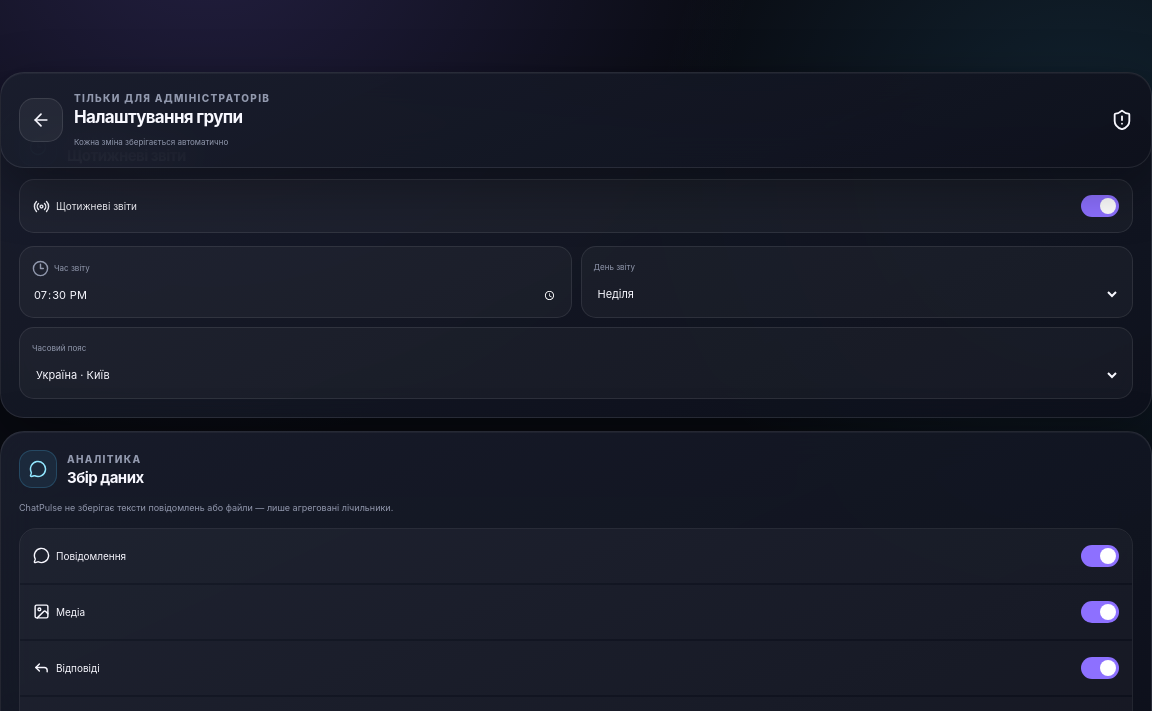
Test case: GroupSettingsPanel › saves a changed field immediately without a global save button
Step 1. Click the checkbox labelled "Повідомлення" → (91, 556), box x1=20 y1=529 x2=1132 y2=583
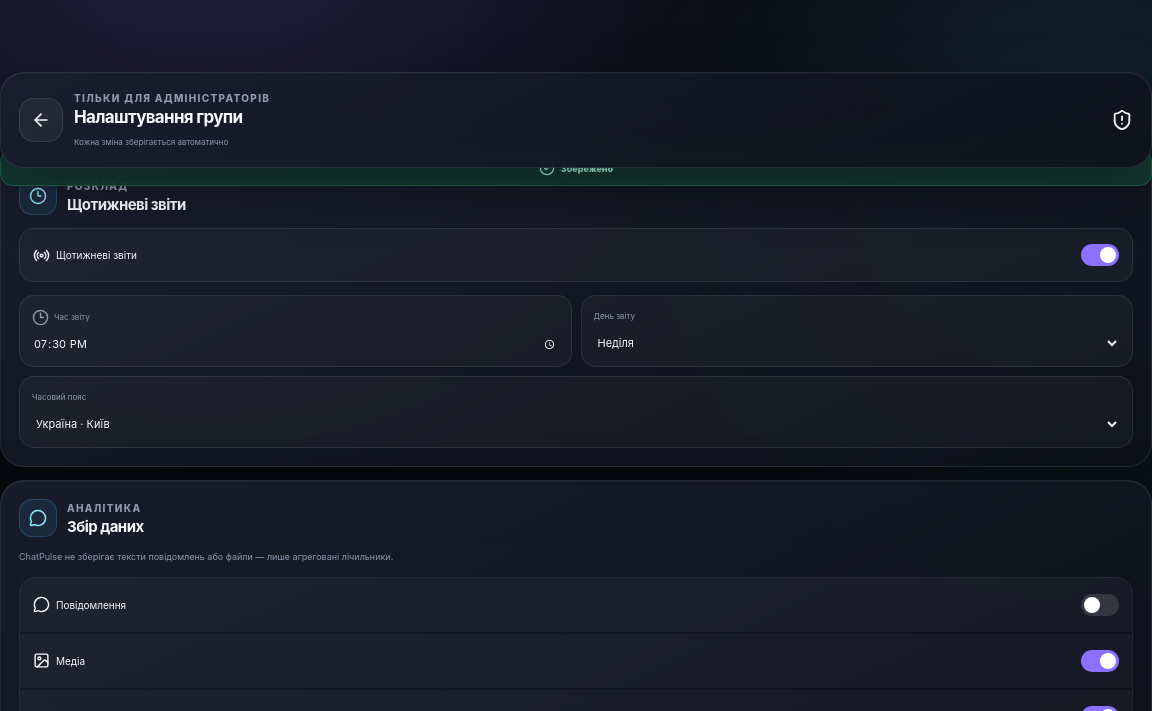
Result: the text "Збережено" is shown at x1=0 y1=150 x2=1151 y2=186
